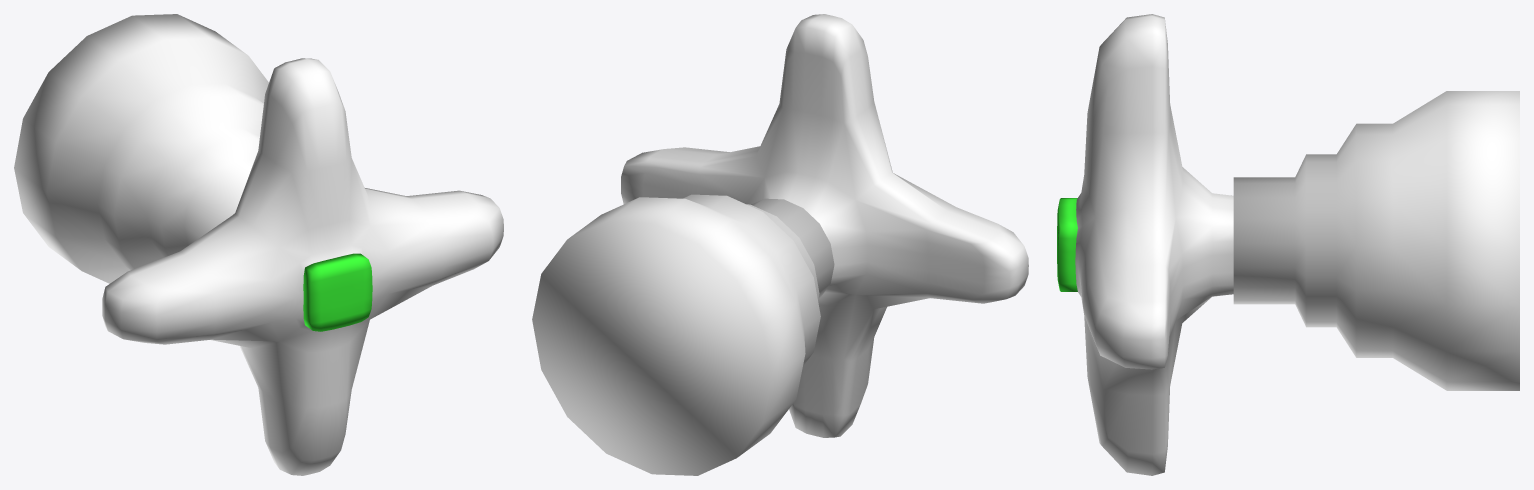
File: fumehood_knob_right_green.gltf
The picture shows the model from 3 angles, left to right: view 1: azimuth 30°, elevation 25°; view 2: azimuth 150°, elevation 25°; view 3: azimuth 270°, elevation 25°; orthographic projection. The views are drawn at different scales.
Visible parts, largest first — view 1: fumehoodknob.006; view 2: fumehoodknob.006; view 3: fumehoodknob.006.
Part boxes in pixels (box(x1,y1,x2,y2)): fumehoodknob.006: box(14, 14, 503, 475); fumehoodknob.006: box(532, 14, 1028, 475); fumehoodknob.006: box(1057, 14, 1519, 475).
Size of the model in its own units: 0.2352 by 0.2352 by 0.22.
